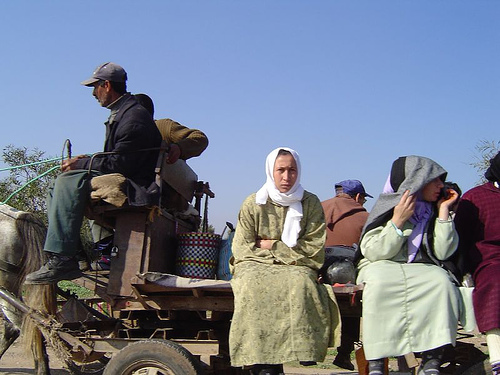horse: (1, 193, 60, 375)
